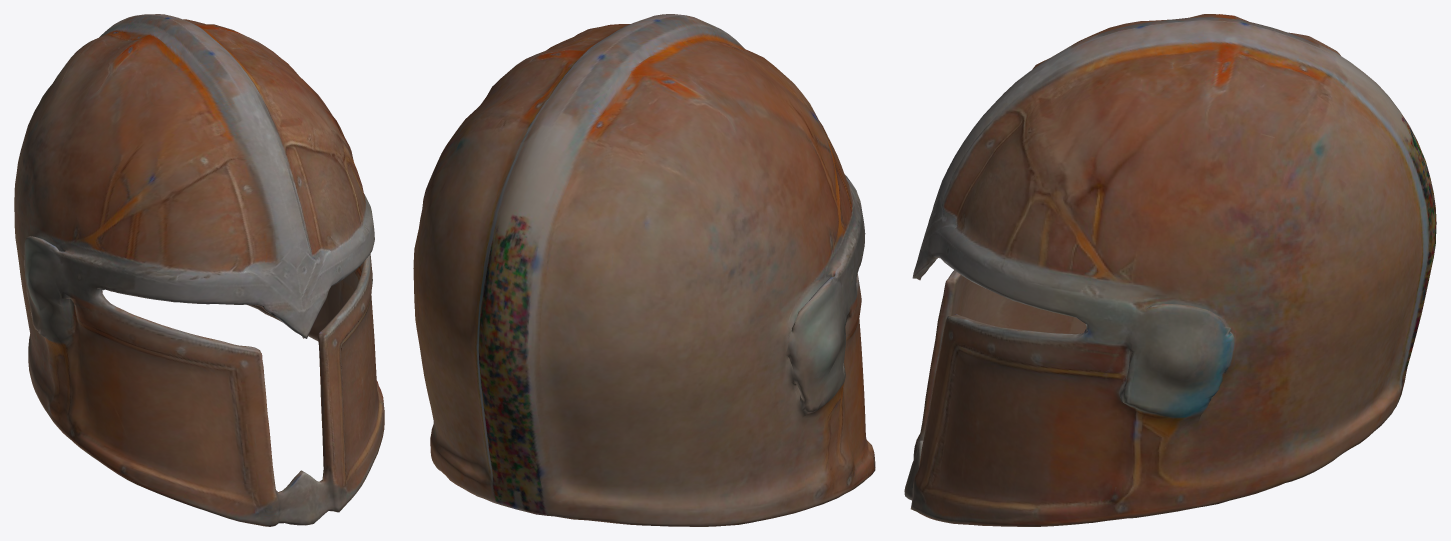
File: Hard Leather Helmet.glb
The picture shows the model from 3 angles, left to right: view 1: azimuth 30°, elevation 25°; view 2: azimuth 150°, elevation 25°; view 3: azimuth 270°, elevation 25°; orthographic projection. The views are drawn at different scales.
Parts seen in each view (by area): view 1: file1; view 2: file1; view 3: file1.
Boxes of the visible parts, bbox=[...] form: file1: bbox=[14, 14, 384, 526]; file1: bbox=[413, 14, 875, 526]; file1: bbox=[904, 14, 1436, 526].
Bounding box in the file's own units: 1.65 × 1.97 × 1.99.
1 material, 1 textured.
